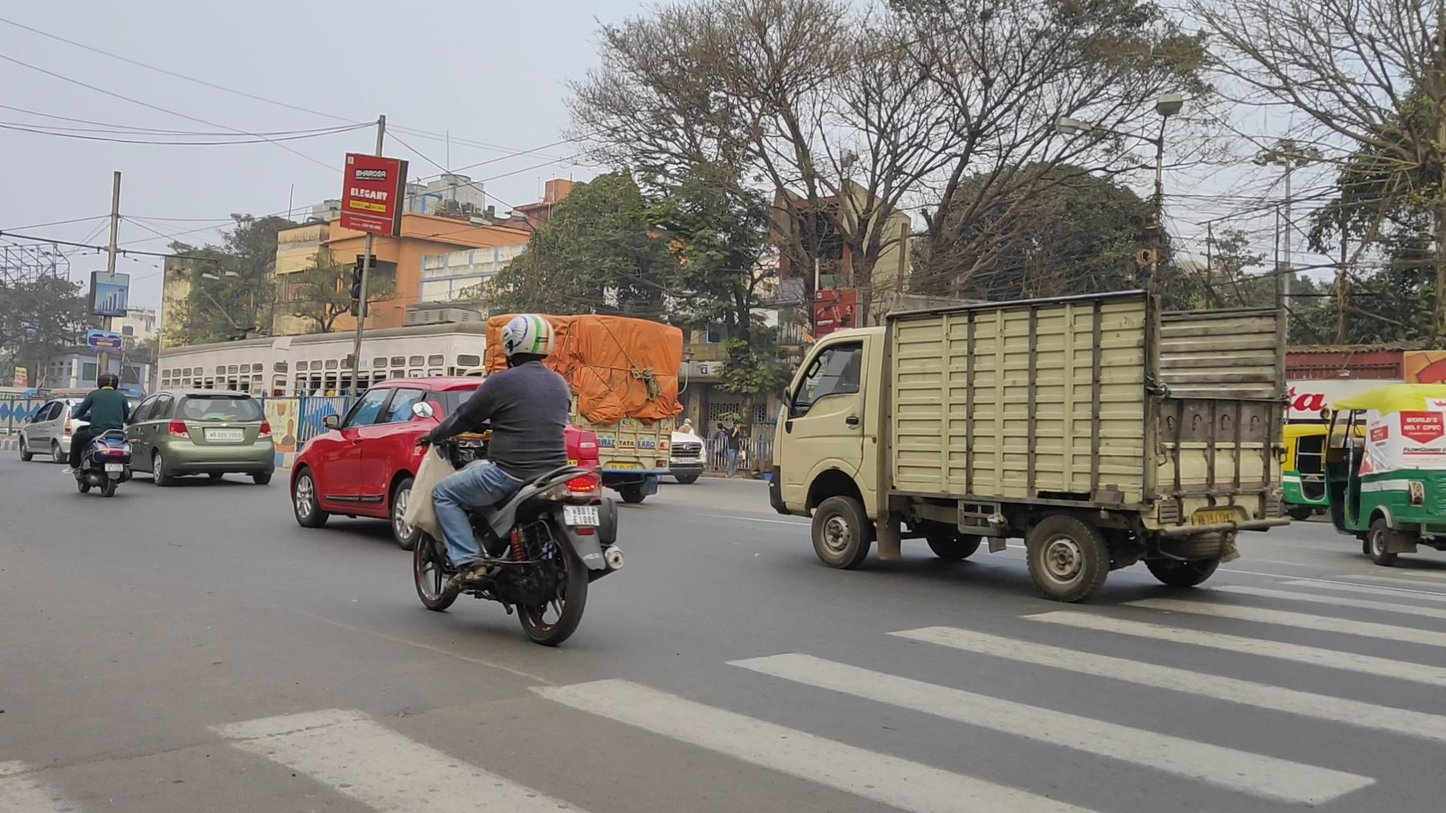Auto: (1320, 382, 1446, 567)
bike: (410, 314, 624, 646), (64, 371, 135, 497)
car: (289, 376, 602, 548), (122, 388, 276, 489), (17, 397, 86, 464)
van: (769, 288, 1292, 603), (457, 314, 679, 507)
